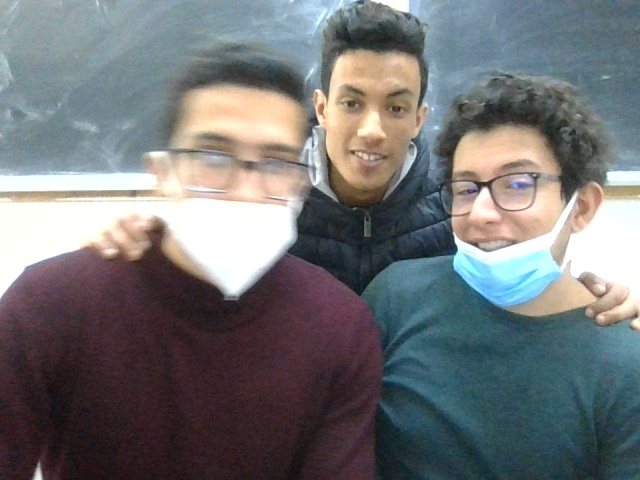mask_weared_incorrect: (444, 77, 597, 310)
without_mask: (324, 6, 438, 191)
